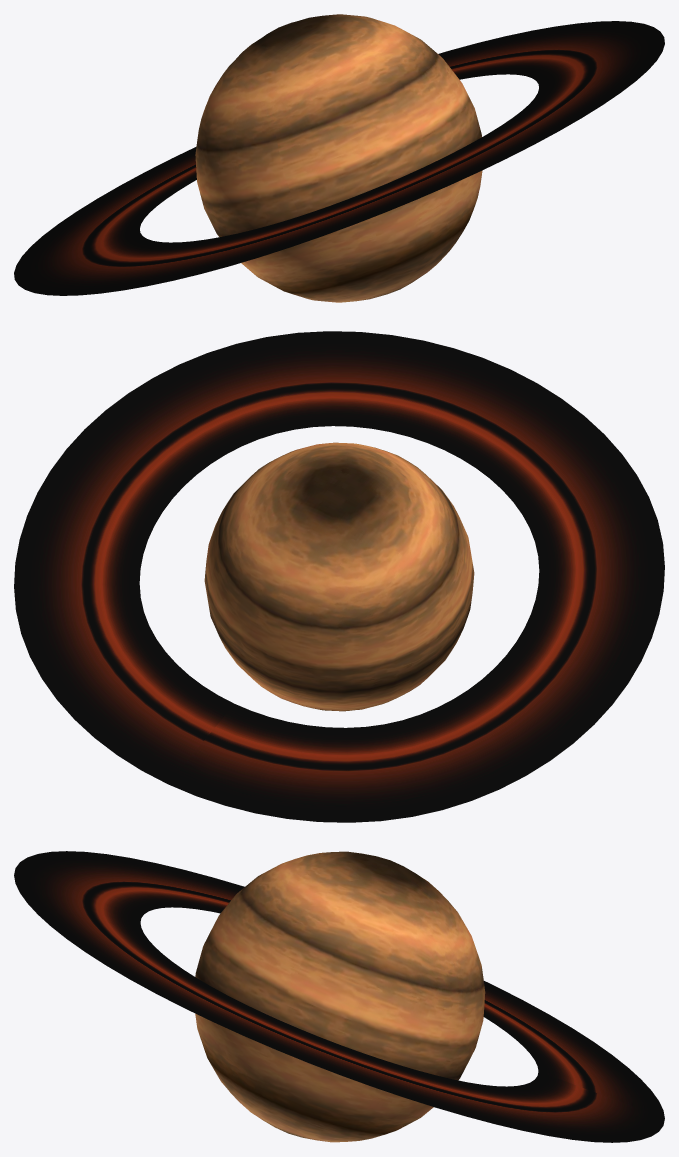
The model's file is space-planet.glb.
3 renders of one model, top to bottom at view 1: azimuth 30°, elevation 25°; view 2: azimuth 150°, elevation 25°; view 3: azimuth 270°, elevation 25°, orthographic. The views are drawn at different scales.
Parts seen in each view (by area): view 1: Cube, Plane; view 2: Plane, Cube; view 3: Cube, Plane.
Boxes of the visible parts, <box> form: Cube: <box>195,14,482,302</box>; Plane: <box>14,21,664,295</box>; Plane: <box>14,331,664,822</box>; Cube: <box>204,442,474,711</box>; Cube: <box>195,851,485,1142</box>; Plane: <box>14,851,664,1142</box>.
Size of the model in its own units: 17.37 by 7.39 by 16.54.
2 materials, 2 textured.
